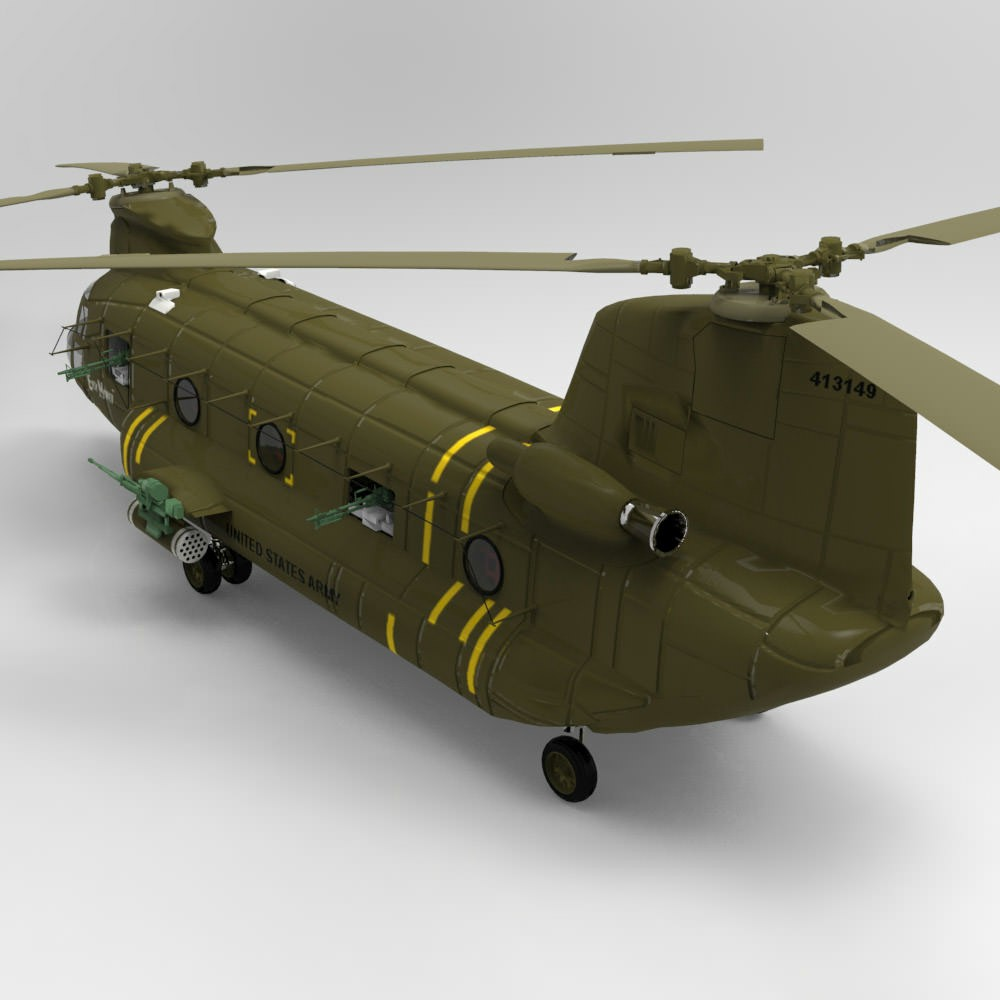chinook: (22, 128, 998, 812)
